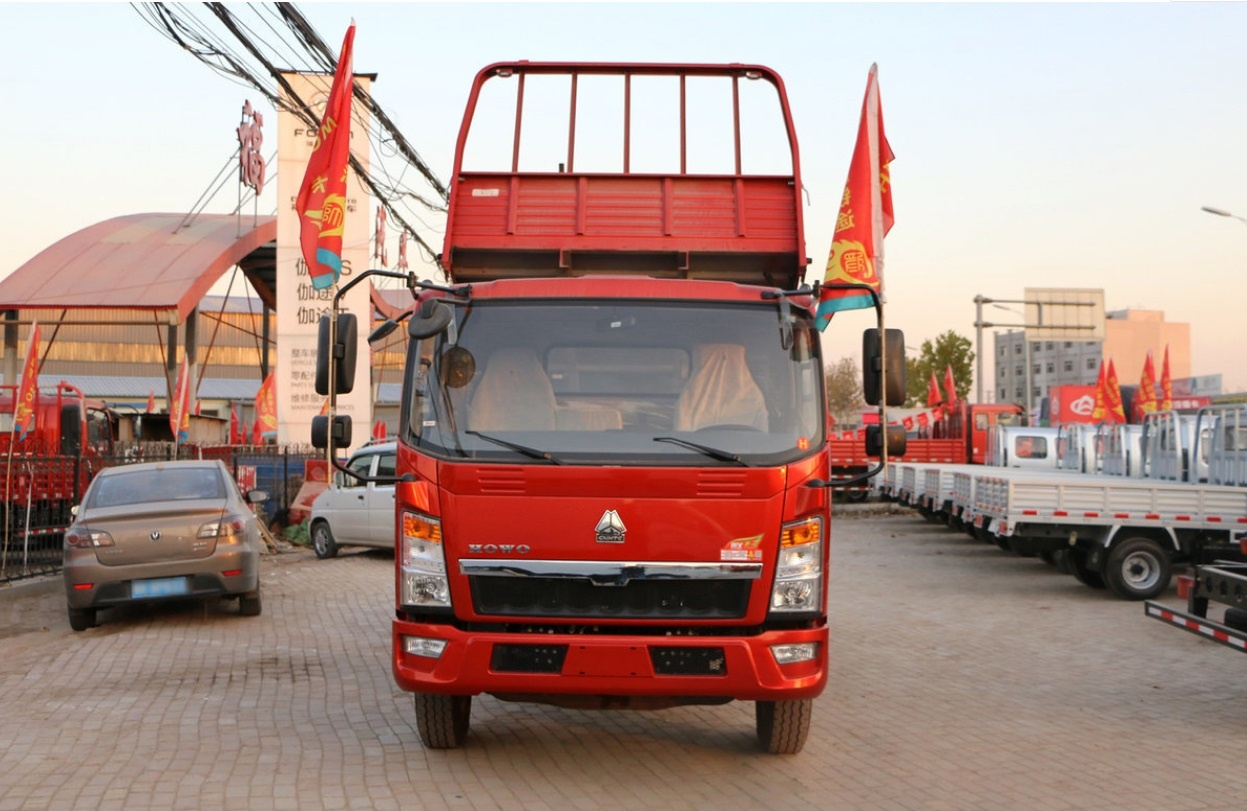heavy truck: (313, 261, 902, 776)
